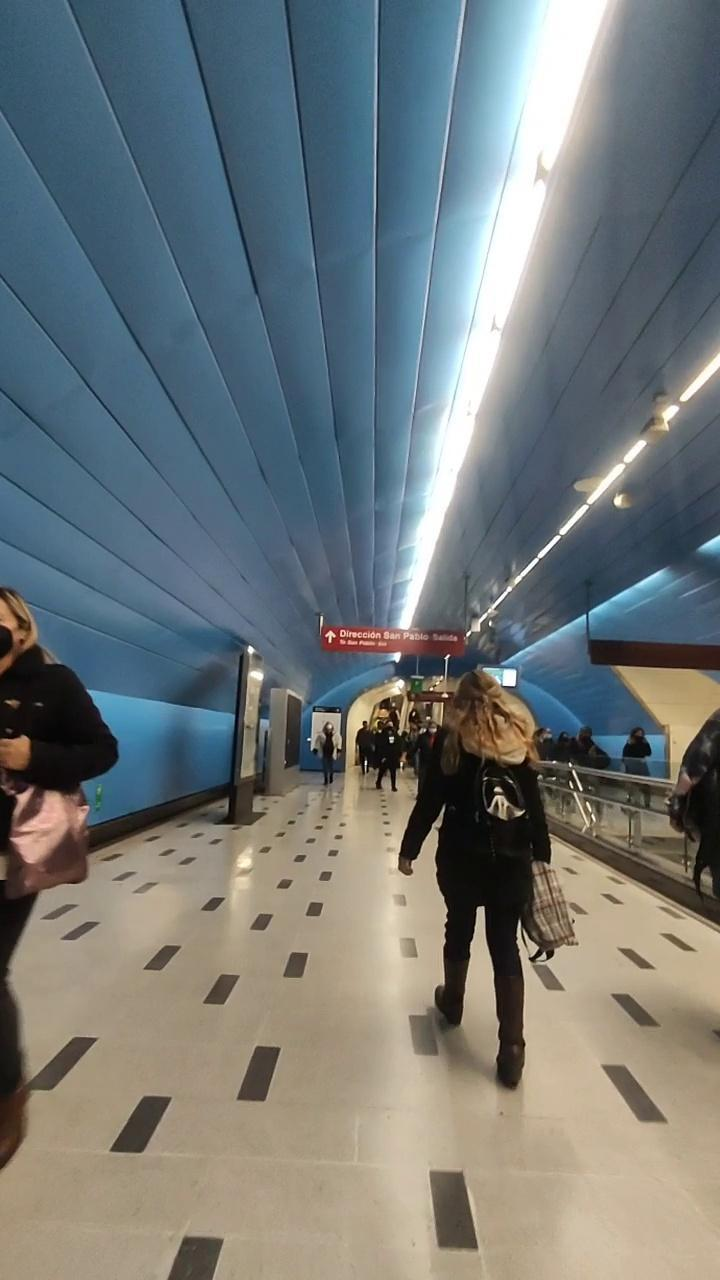up arrow: (324, 630, 337, 645)
